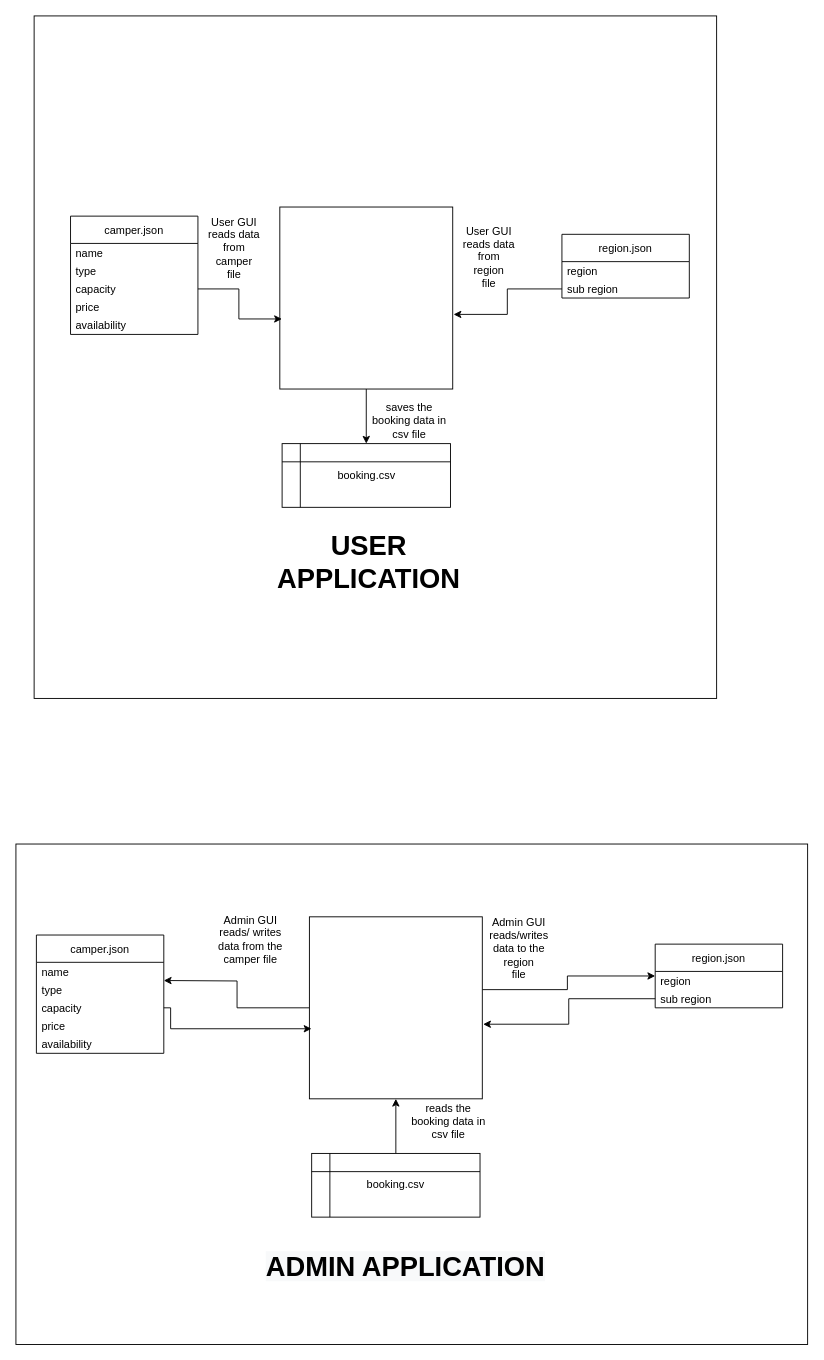
Some shapes in this 824 by 1360 pixel diagram are drawn without their labels. The shapes that lost their labels are listed below. From the top down, each one's centre as x and y in pixels, then its label:
the point at 366,297: User GUI
the point at 395,1007: Admin GUI
